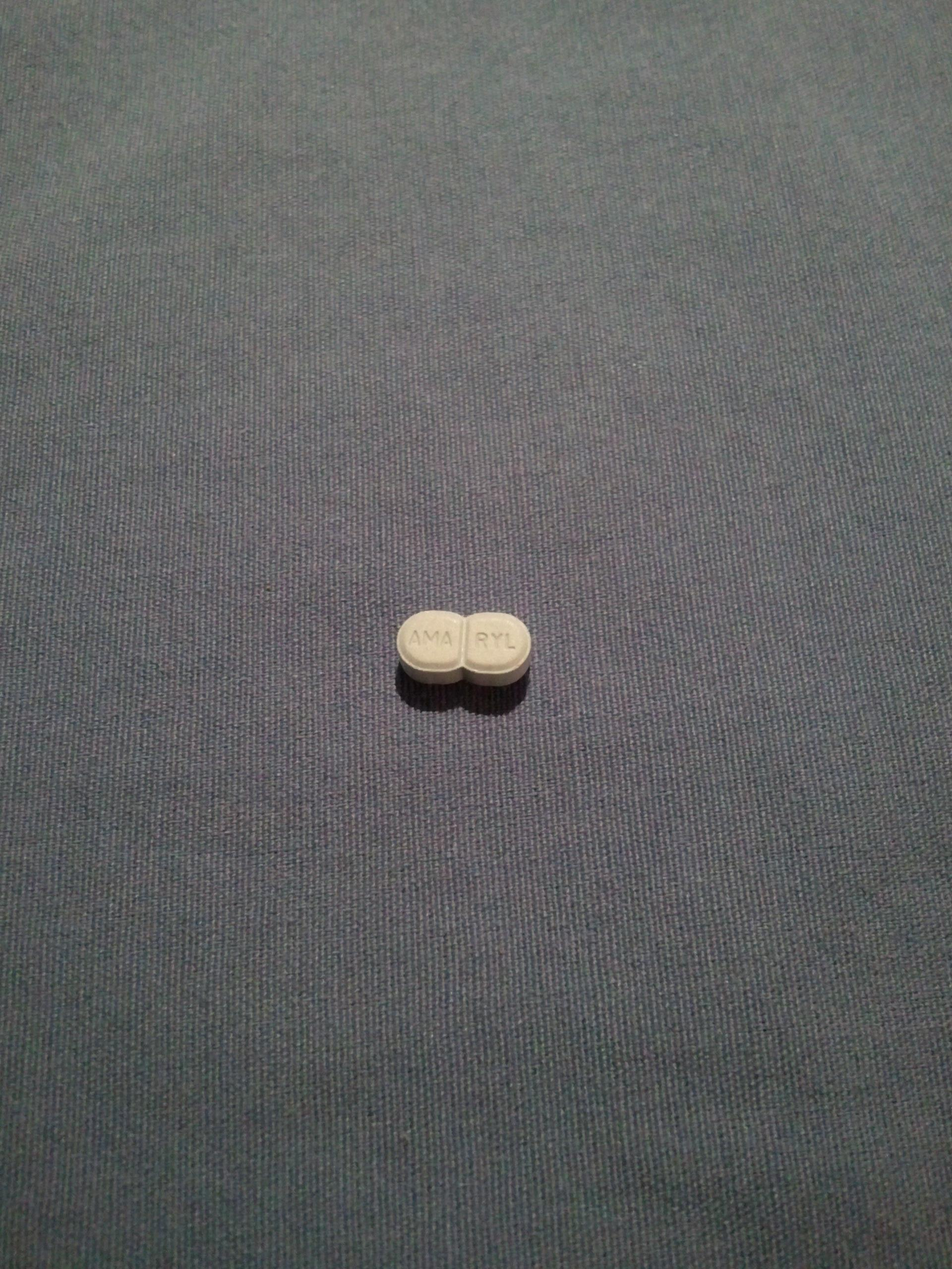Pill: (374, 597, 561, 706)
